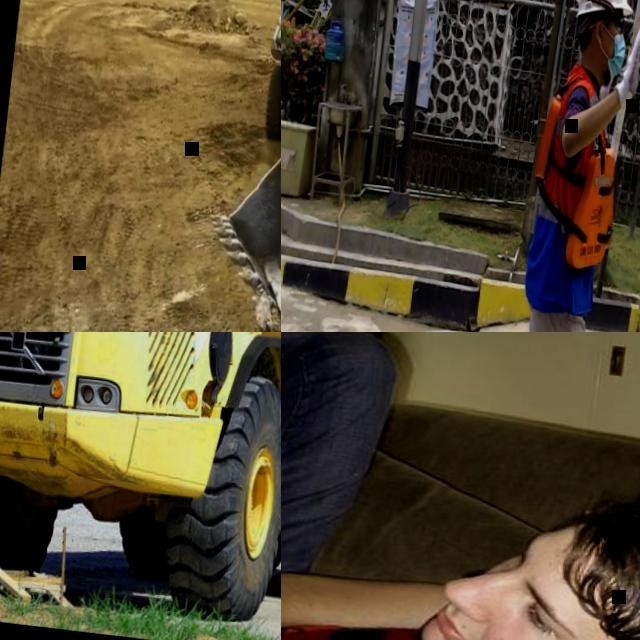Hardhat: (572, 0, 637, 22)
Mask: (593, 21, 629, 77)
NO-Hardhat: (550, 476, 640, 640)
NO-Mask: (412, 563, 536, 640)
NO-Safety Vest: (281, 599, 486, 640)
Person: (281, 332, 640, 640), (494, 0, 640, 332)
Safety Vest: (524, 85, 629, 271)
machinery: (0, 332, 281, 640), (205, 3, 281, 332)
